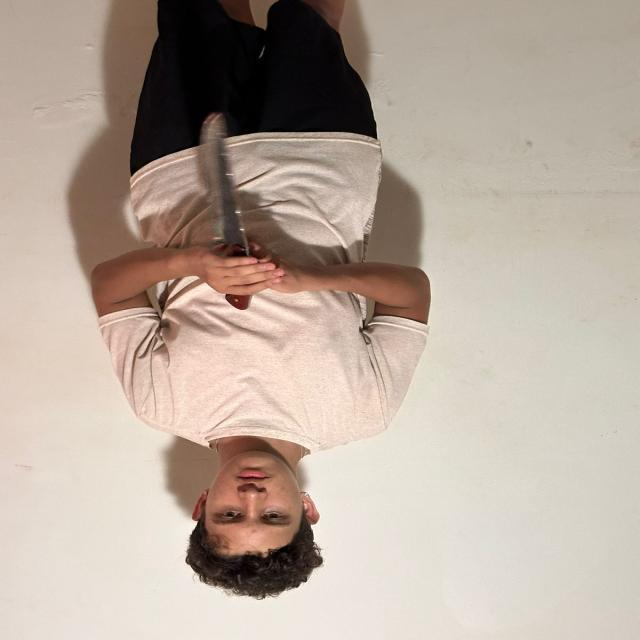knife: (198, 111, 246, 244)
